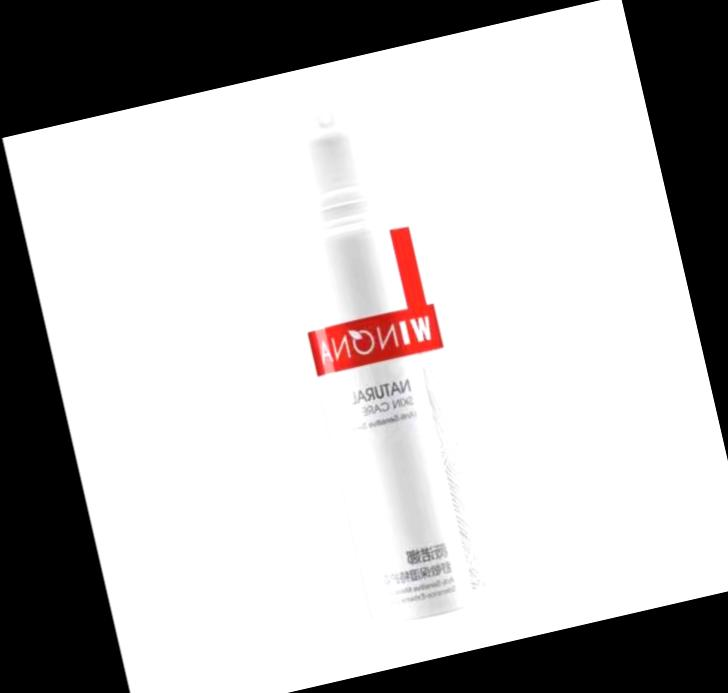cosmetic: (253, 79, 506, 632)
